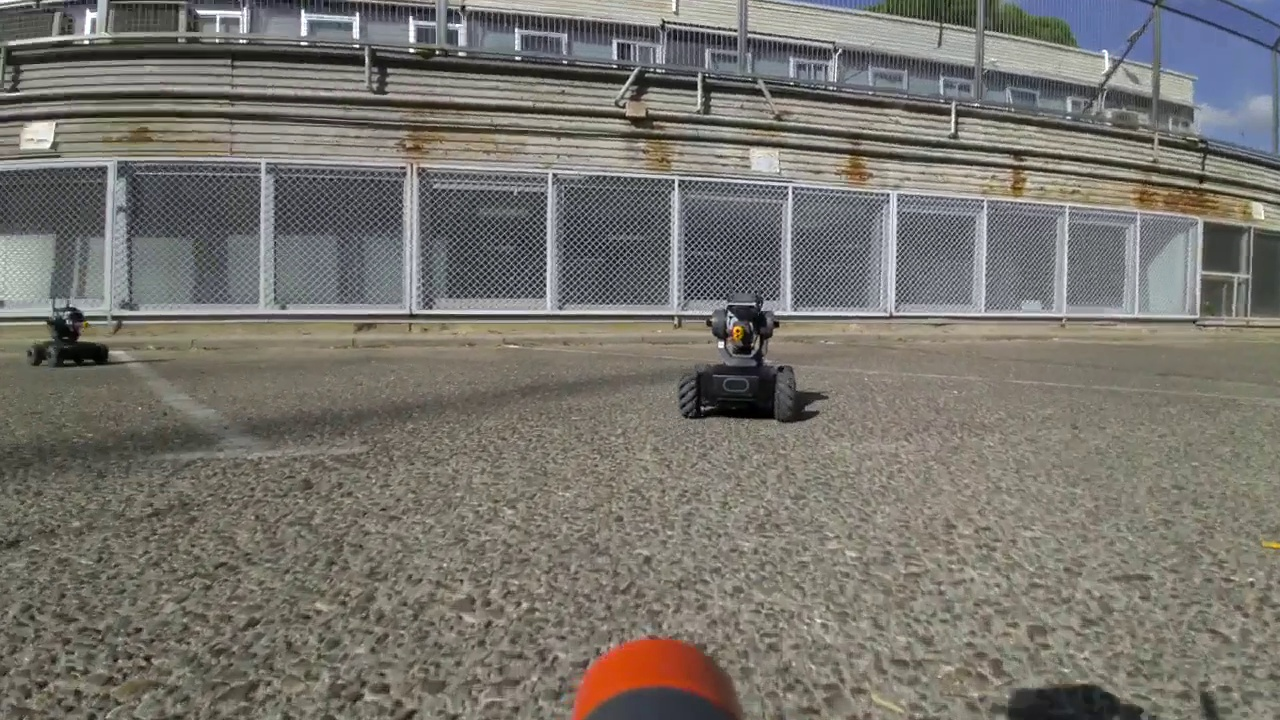robot: (683, 292, 799, 420), (27, 291, 107, 371)
